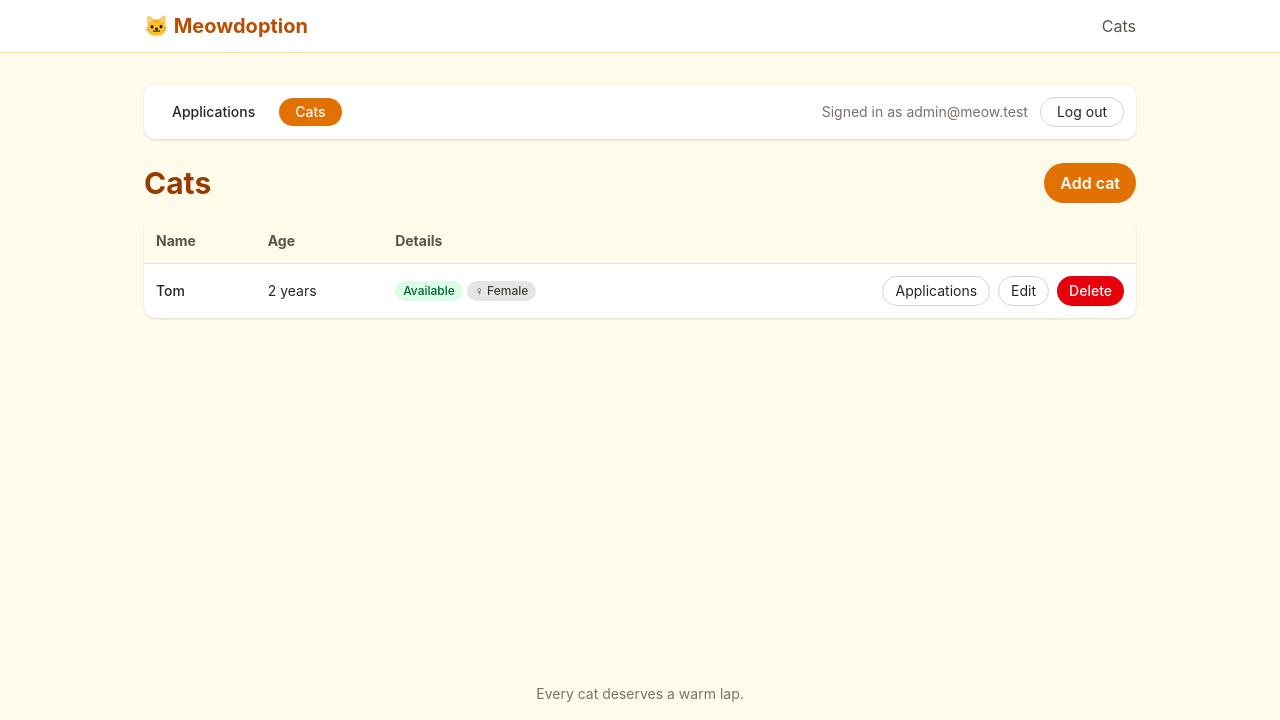
admin cats › deletes a cat only after confirmation
What coordinates should you click on to do the following:
click the button "Delete"
I would click on:
 (1091, 291)
Its box is [1057,276,1124,306].
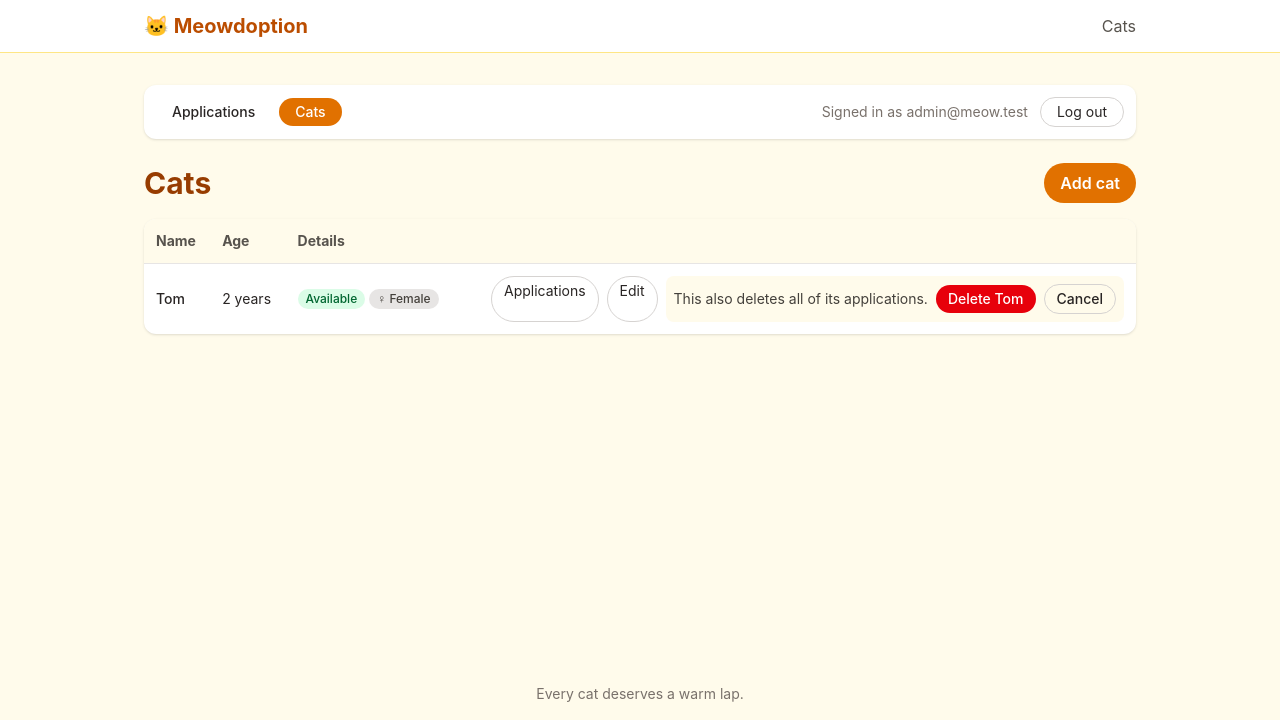
Check: the text "This also deletes all of its applications." is shown, box [674,289,928,309]
What coordinates should you click on to do the following:
click the button "Delete Tom"
I would click on:
 (986, 299)
Its box is [936,285,1036,313].
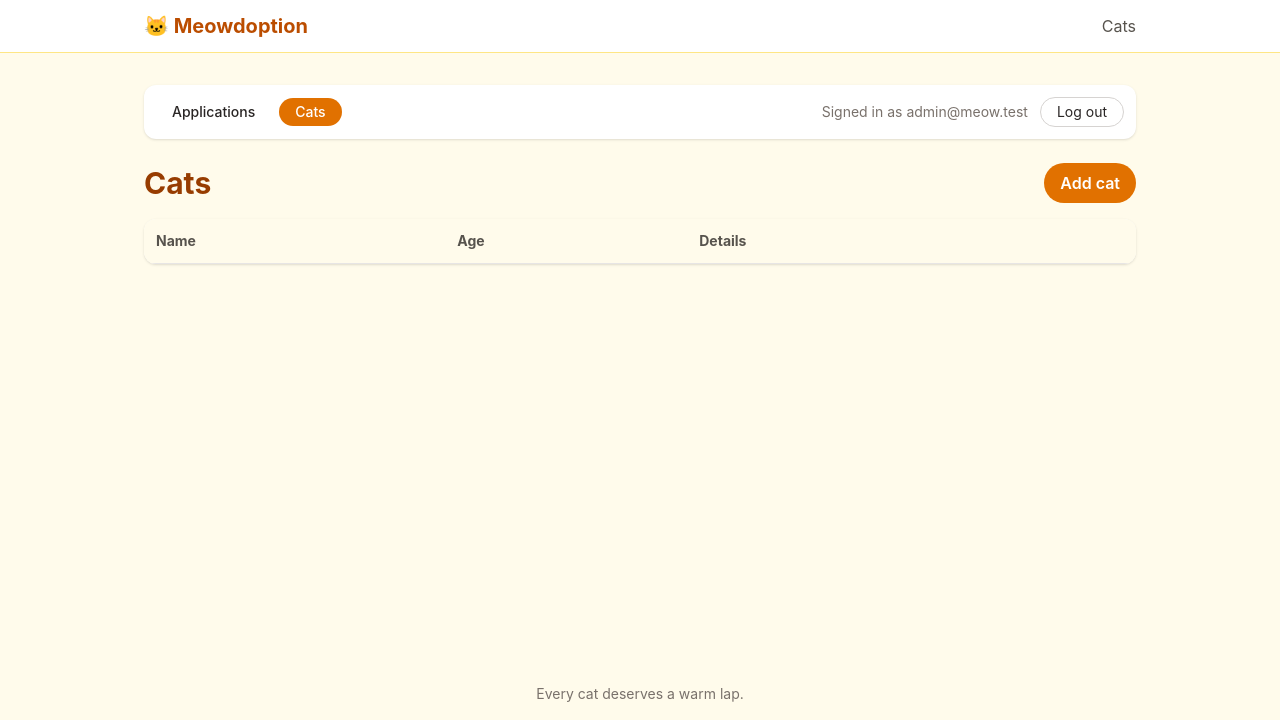
Check: the link "Tom" is gone
